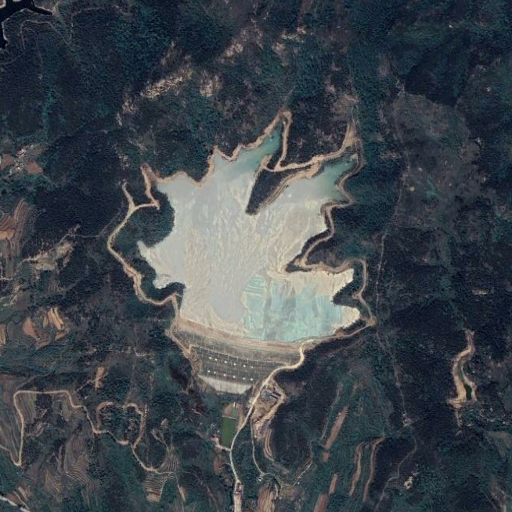tp: (144, 114, 364, 398)
